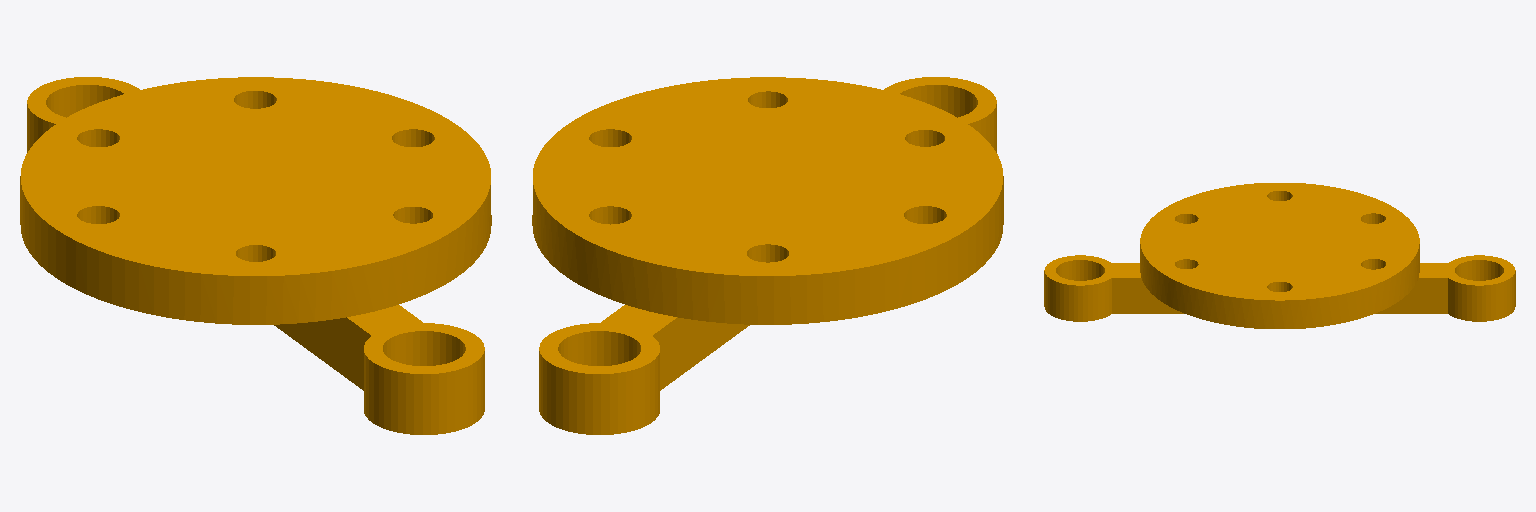
The robot description file, URDF, robot "Assembly":
<?xml version='1.0' encoding='utf-8'?>
<robot name="Assembly">
    <link name="Connector">
        <inertial>
            <origin xyz="1.1489976617875285e-06 -0.1525688417692158 0.337344043902778" rpy="0.0 0.0 0.0" />
            <mass value="0.013307690696243135" />
            <inertia ixx="1.7521075747419046e-06" iyy="8.314805055430891e-07" izz="2.4401209810309916e-06" ixy="9.07155492361631e-12" iyz="2.897194996930023e-10" ixz="-2.2910762028739698e-12" />
        </inertial>
        <visual name="Connector_visual">
            <origin xyz="0.0 0.0 0.0" rpy="0.0 0.0 0.0" />
            <geometry>
                <mesh filename="meshes/Connector.stl" scale="0.001 0.001 0.001" />
            </geometry>
        </visual>
        <collision name="Connector_collision">
            <origin xyz="0.0 0.0 0.0" rpy="0.0 0.0 0.0" />
            <geometry>
                <mesh filename="meshes/Connector.stl" scale="0.001 0.001 0.001" />
            </geometry>
        </collision>
    </link>
</robot>

--- What the picture shows (computed from the rendered views, not written in the file) ---
The picture shows the robot from 3 angles, left to right: view 1: azimuth 30°, elevation 25°; view 2: azimuth 150°, elevation 25°; view 3: azimuth 270°, elevation 25°; orthographic projection.
Model Assembly with 1 links and 0 joints (none), rooted at Connector, posed all joints at 0.
Visible links, largest first — view 1: Connector; view 2: Connector; view 3: Connector.
Link boxes in pixels (box(x1,y1,x2,y2)): Connector: box(20, 77, 491, 434); Connector: box(532, 77, 1003, 434); Connector: box(1044, 183, 1515, 328).
Bounding box of the posed robot: 0.035 × 0.059 × 0.009 m (x, y, z).
1 mesh visuals loaded from 1 distinct referenced files (1 binary STL).